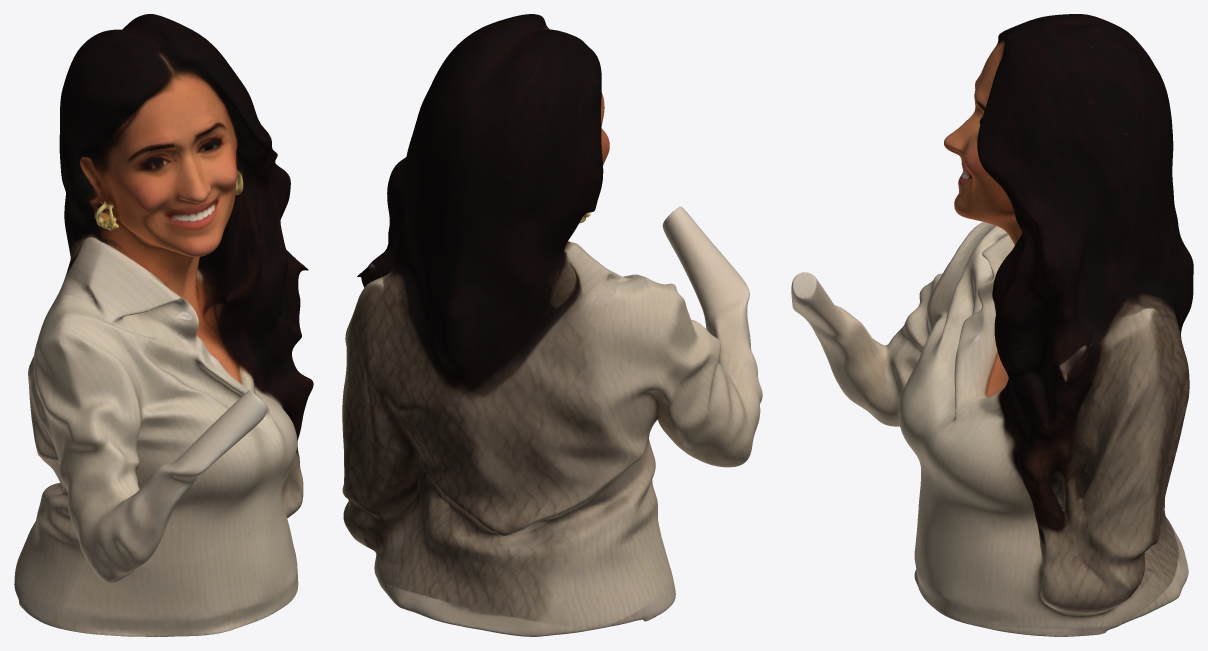
The model's file is meghan_face.glb.
3 views of the same model, side by side, from view 1: azimuth 30°, elevation 25°; view 2: azimuth 150°, elevation 25°; view 3: azimuth 270°, elevation 25° (orthographic).
Size of the model in its own units: 1.1 by 1.9 by 1.25.
1 material, 1 textured.
